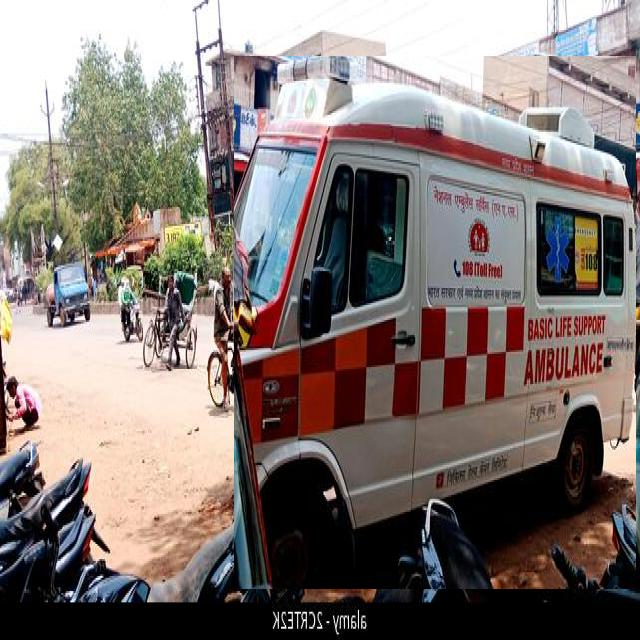bicycle: (143, 271, 196, 369)
emergency: (234, 57, 636, 589)
